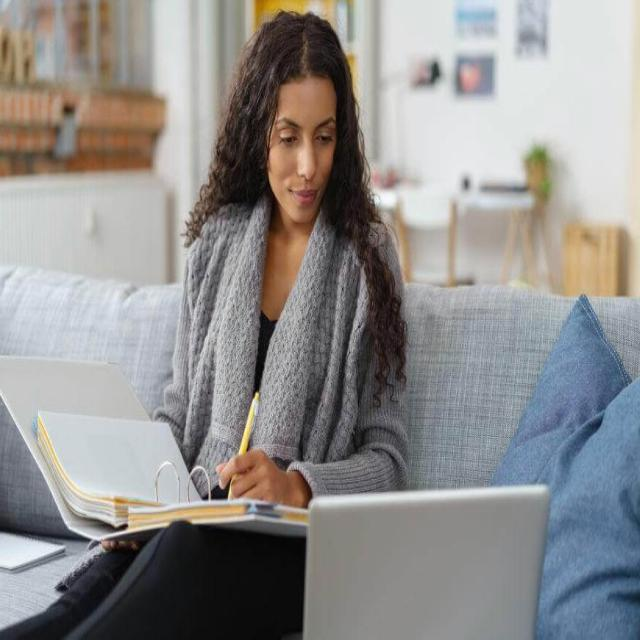adult: (0, 9, 409, 640)
